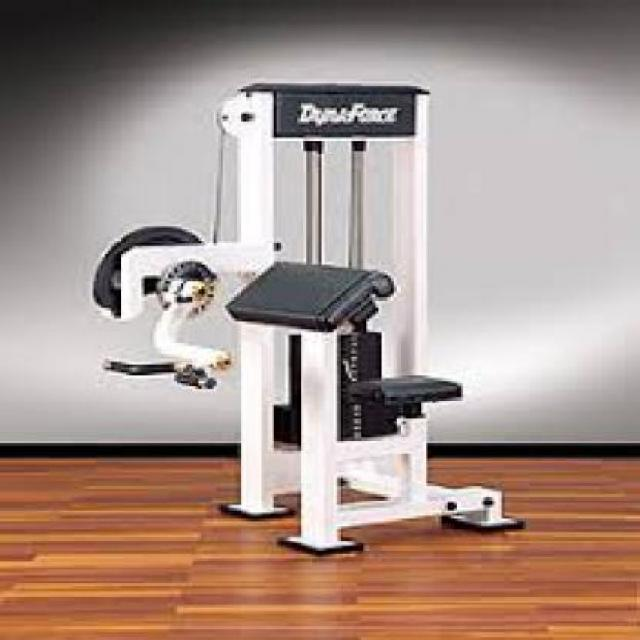arm curl machine: (92, 83, 526, 557)
